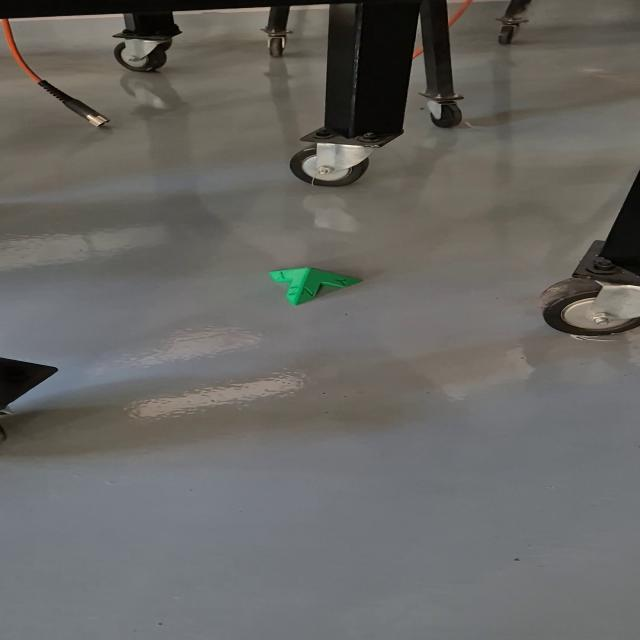objects: (267, 267, 364, 306)
